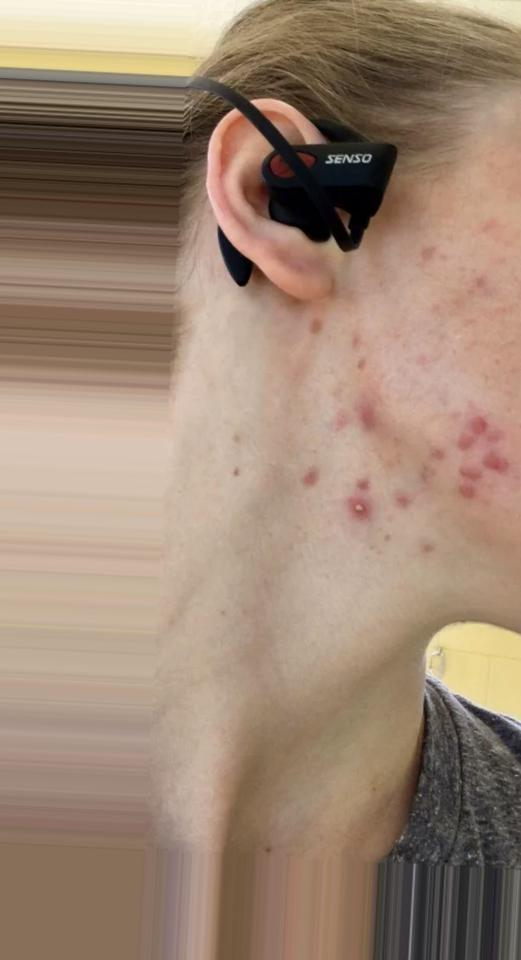Acne: (336, 338, 470, 478), (283, 466, 451, 575), (448, 396, 521, 513)
